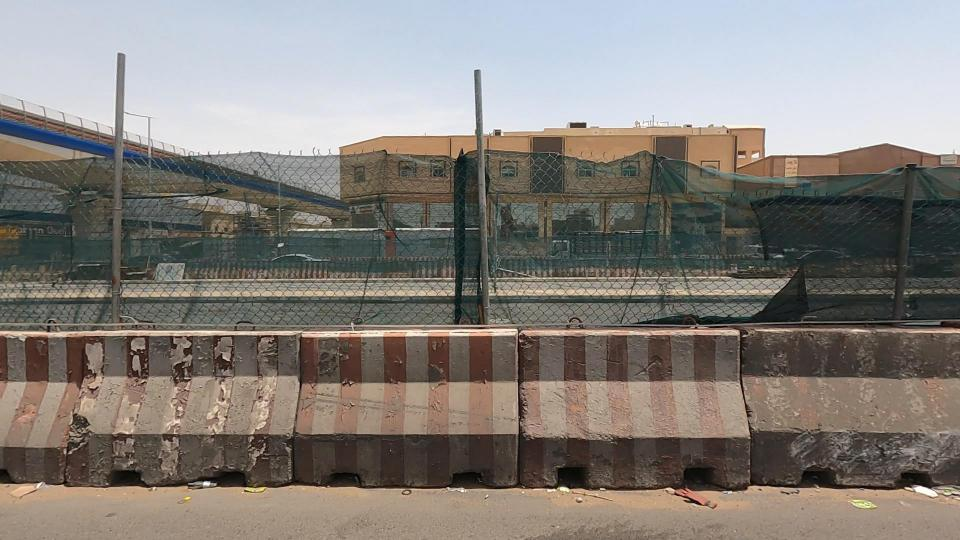CONSTRUCTION_ROAD: (266, 154, 960, 540), (0, 105, 531, 540)
GARBAGE: (628, 455, 725, 535), (803, 467, 894, 540), (876, 455, 948, 519)
